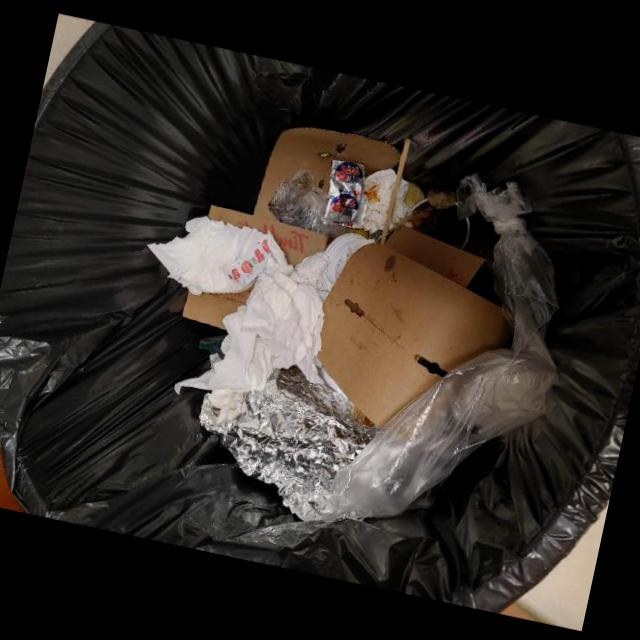carton: (317, 244, 513, 428), (252, 127, 400, 221), (207, 205, 328, 267), (181, 288, 251, 330)
giay: (173, 251, 332, 395), (147, 216, 287, 296)
nhom: (198, 369, 379, 523)
tui_ni_long: (329, 174, 557, 521)
